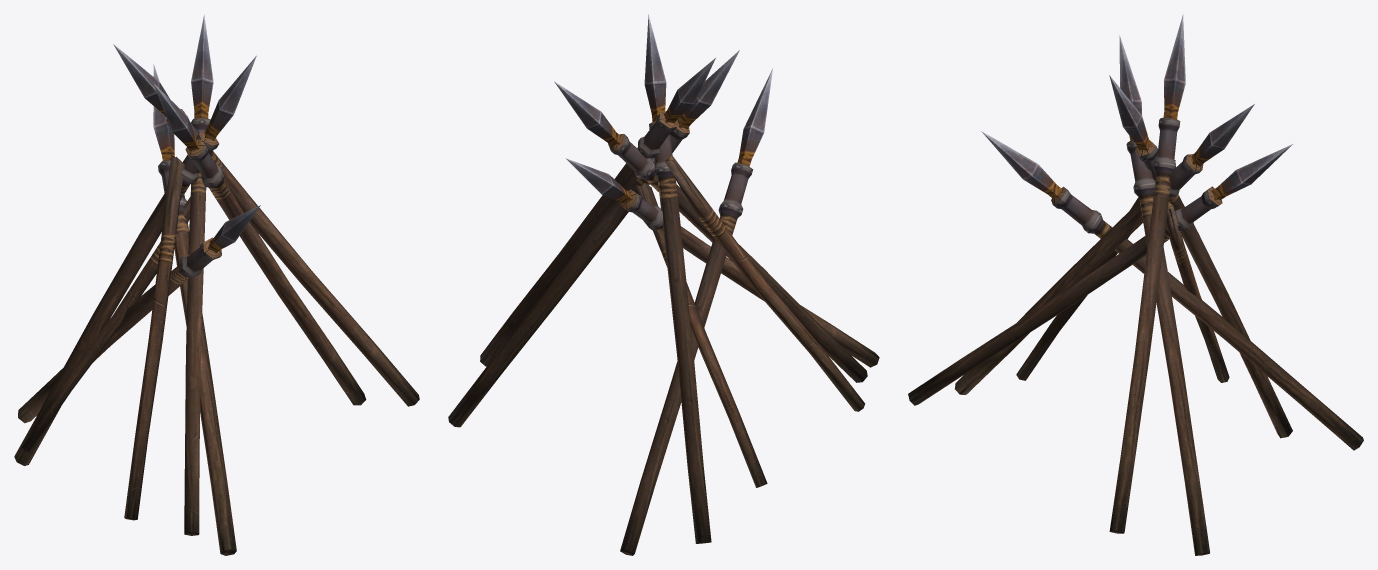
Rendered from wuqi001.FBX.
3 renders of one model, left to right at view 1: azimuth 30°, elevation 25°; view 2: azimuth 150°, elevation 25°; view 3: azimuth 270°, elevation 25°, orthographic.
Parts seen in each view (by area): view 1: wuqi001; view 2: wuqi001; view 3: wuqi001.
Part boxes in pixels (x1,y1,x2,y2): wuqi001: (14, 15, 419, 555); wuqi001: (448, 14, 879, 555); wuqi001: (908, 14, 1363, 555).
Bounding box in the file's own units: 2.37 × 2.97 × 2.78.
